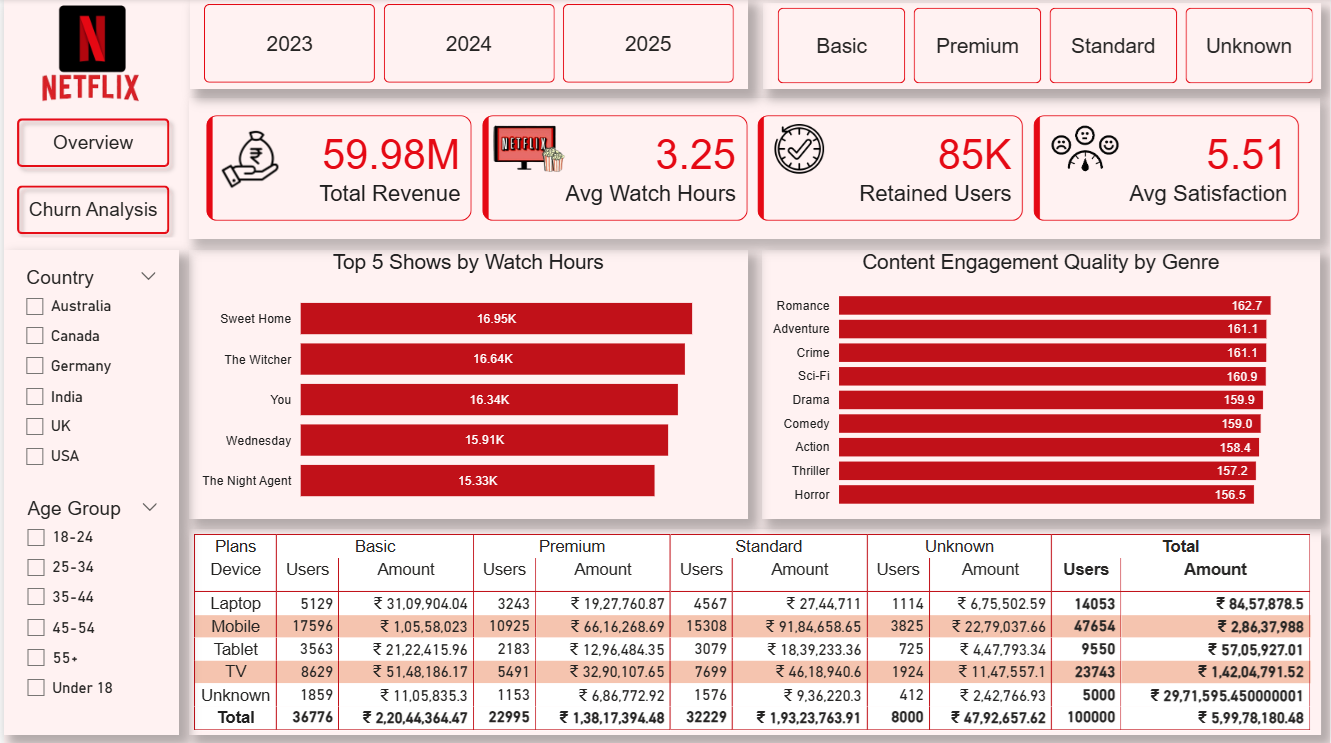

This screenshot's page, from the dashboard's own definition file:
{"tool":"powerbi","page":{"name":"Engagement Drivers","canvas":[1280,720],"ordinal":2},"visuals":[{"type":"cardVisual","fields":{"Data":["Sum(Netflix_Cleaned_Analytics_File.Revenue_INR)","Avg(Netflix_Cleaned_Analytics_File.Watch_Hours)","Netflix_Cleaned_Analytics_File.Retained Users","Netflix_Cleaned_Analytics_File.Avg Satisfaction"]},"box":[178.2,95.6,1091.3,136.3],"z":0},{"type":"clusteredBarChart","title":"Top 5 Shows by Watch Hours","fields":{"Category":["Netflix_Cleaned_Analytics_File.Show_Title"],"Y":["Sum(Netflix_Cleaned_Analytics_File.Watch_Hours)"]},"box":[178,242.8,538.9,259.3],"z":1000},{"type":"clusteredBarChart","title":"Content Engagement Quality by Genre","fields":{"Category":["Netflix_Cleaned_Analytics_File.Genre"],"Y":["Netflix_Cleaned_Analytics_File.Avg Completion %"]},"box":[730.9,242.8,538.9,259.3],"z":2000},{"type":"pivotTable","title":"User Engagement vs Satisfaction","fields":{"Rows":["Netflix_Cleaned_Analytics_File.Viewing_Device"],"Values":["CountNonNull(Netflix_Cleaned_Analytics_File.User_ID)","Sum(Netflix_Cleaned_Analytics_File.Revenue_INR)"],"Columns":["Netflix_Cleaned_Analytics_File.Subscription_Type"]},"box":[178,511,1093.1,199.6],"z":3000},{"type":"shape","box":[0,242.5,168.9,468.1],"z":4000},{"type":"shape","box":[732.3,3.6,538.1,83.2],"z":5000},{"type":"slicer","fields":{"Values":["Netflix_Cleaned_Analytics_File.Country"]},"box":[8.4,253.4,150.8,213.5],"z":6000},{"type":"advancedSlicerVisual","fields":{"Values":["Netflix_Cleaned_Analytics_File.Subscription_Type"]},"box":[742,3.6,528.4,83.2],"z":7000},{"type":"slicer","fields":{"Values":["Netflix_Cleaned_Analytics_File.Age_Group"]},"box":[9.7,476.5,150.8,218.4],"z":8000},{"type":"shape","box":[179.8,0,538.1,86.9],"z":9000},{"type":"advancedSlicerVisual","fields":{"Values":["Netflix_Cleaned_Analytics_File.Date.Variation.Date Hierarchy.Year"]},"box":[188.2,0,521.2,86.9],"z":10000},{"type":"image","box":[19.7,3.9,132.3,69.4],"z":11000},{"type":"image","box":[3.9,52.4,159.8,68.1],"z":12000},{"type":"image","box":[1000.4,105.5,86.4,76.3],"z":13000},{"type":"image","box":[732.2,120.8,69.9,48.3],"z":14000},{"type":"image","box":[205.9,122,62.3,66.1],"z":15000},{"type":"image","box":[438.5,101.7,137.3,86.4],"z":16000},{"type":"pageNavigator","box":[3.9,106.1,165.1,125.8],"z":17000}]}

Visuals, with their boxes in screenshot pixels (x1, y1, x2, y2), scaled from the page's 1280x720 canvas onto the 1331x743 screenshot:
cardVisual - Sum(Netflix_Cleaned_Analytics_File.Revenue_INR) x Avg(Netflix_Cleaned_Analytics_File.Watch_Hours): [185, 99, 1320, 239]
"Top 5 Shows by Watch Hours" clusteredBarChart: [185, 251, 745, 518]
"Content Engagement Quality by Genre" clusteredBarChart: [760, 251, 1320, 518]
"User Engagement vs Satisfaction" pivotTable: [185, 527, 1322, 733]
shape: [0, 250, 176, 733]
shape: [761, 4, 1321, 90]
slicer - Netflix_Cleaned_Analytics_File.Country: [9, 261, 166, 482]
advancedSlicerVisual - Netflix_Cleaned_Analytics_File.Subscription_Type: [772, 4, 1321, 90]
slicer - Netflix_Cleaned_Analytics_File.Age_Group: [10, 492, 167, 717]
shape: [187, 0, 747, 90]
advancedSlicerVisual - Netflix_Cleaned_Analytics_File.Date.Variation.Date Hierarchy.Year: [196, 0, 738, 90]
image: [20, 4, 158, 76]
image: [4, 54, 170, 124]
image: [1040, 109, 1130, 188]
image: [761, 125, 834, 175]
image: [214, 126, 279, 194]
image: [456, 105, 599, 194]
pageNavigator: [4, 109, 176, 239]
